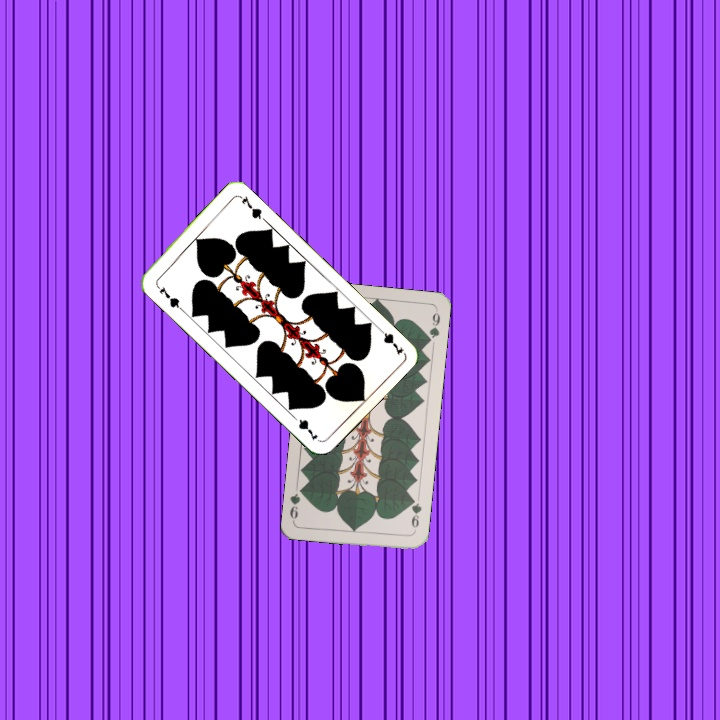G7: (373, 322, 406, 357), (152, 280, 185, 312)
G9: (407, 494, 424, 535)
